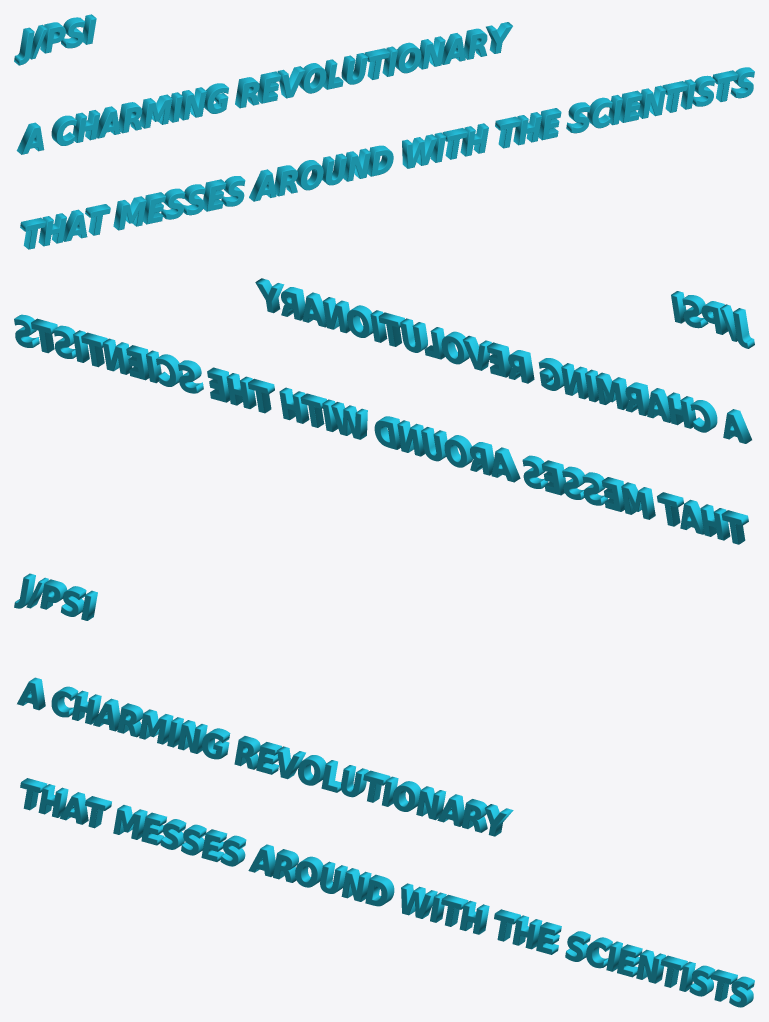
File: JpsiIntroductionLong.fbx
The picture shows the model from 3 angles, top to bottom: view 1: azimuth 30°, elevation 25°; view 2: azimuth 150°, elevation 25°; view 3: azimuth 330°, elevation 25°; orthographic projection. The views are drawn at different scales.
Visible parts, largest first — view 1: Jpsi_introduction_long; view 2: Jpsi_introduction_long; view 3: Jpsi_introduction_long.
Boxes of the visible parts, <box> form: Jpsi_introduction_long: <box>14,14,754,249</box>; Jpsi_introduction_long: <box>14,278,754,544</box>; Jpsi_introduction_long: <box>14,573,754,1007</box>.
Size of the model in its own units: 1551 by 452 by 110.
